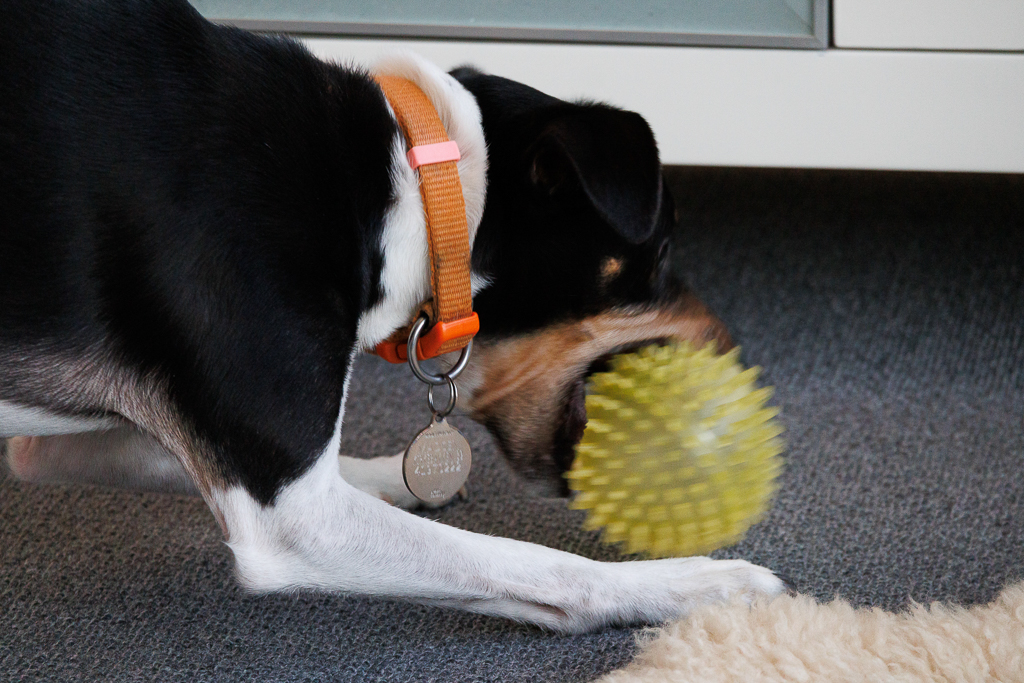Dog: (0, 0, 818, 646)
